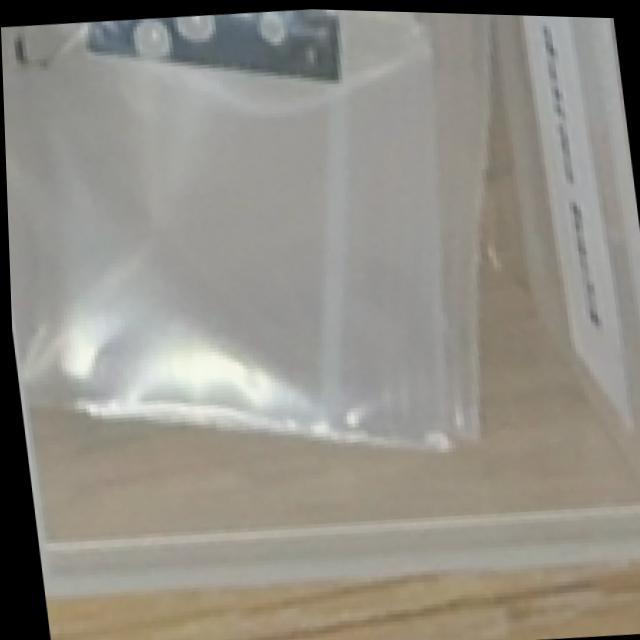Reed Switch: (7, 0, 352, 119)
